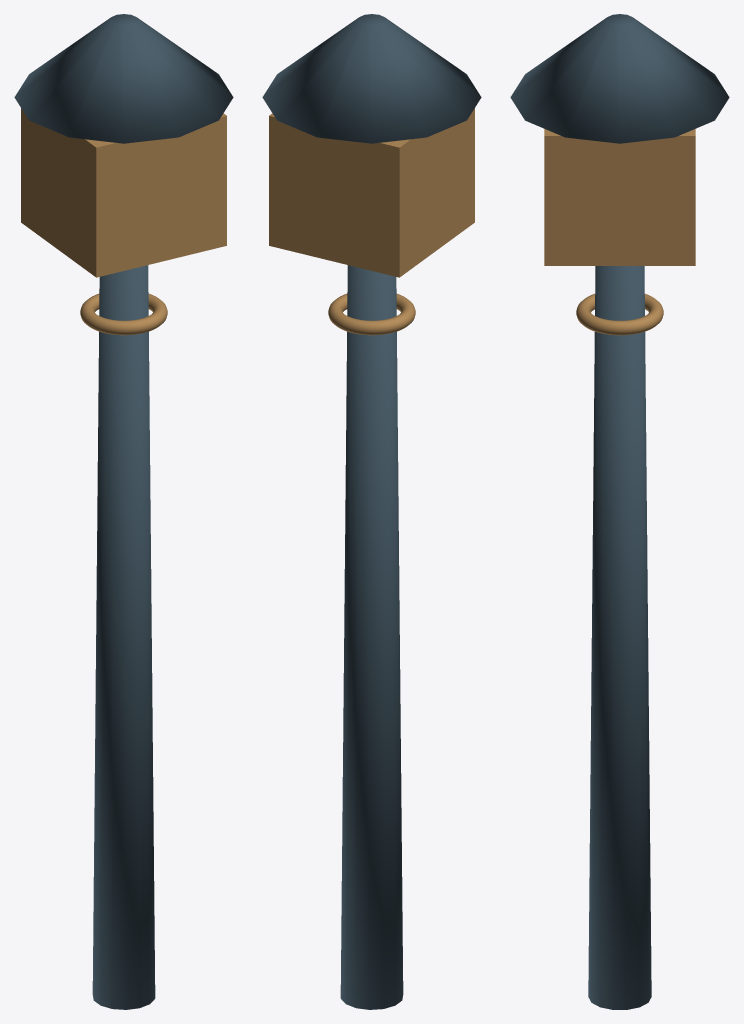
The model's file is lamp_post.glb.
3 renders of one model, left to right at view 1: azimuth 30°, elevation 25°; view 2: azimuth 150°, elevation 25°; view 3: azimuth 270°, elevation 25°, orthographic.
Visible parts, largest first — view 1: Post, Head, Cap, Collar; view 2: Post, Head, Cap, Collar; view 3: Post, Head, Cap, Collar.
Boxes of the visible parts, x1,y1,x2,y2 form: Post: [92, 265, 155, 1009]; Head: [21, 108, 226, 277]; Cap: [14, 14, 233, 143]; Collar: [80, 293, 167, 335]; Post: [340, 265, 403, 1009]; Head: [269, 108, 474, 277]; Cap: [262, 14, 481, 143]; Collar: [328, 293, 415, 335]; Post: [588, 266, 651, 1009]; Head: [544, 129, 695, 265]; Cap: [510, 14, 729, 143]; Collar: [576, 293, 663, 335].
Size of the model in its own units: 0.9 by 4.42 by 0.9.
